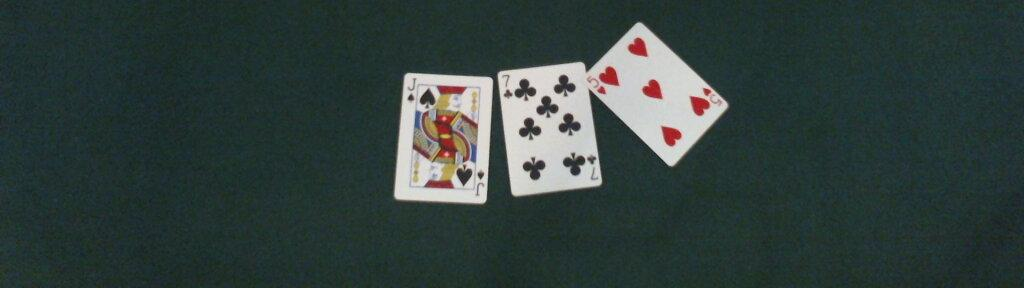five: (587, 22, 729, 167)
jack: (391, 72, 493, 205)
seven: (496, 61, 605, 196)
